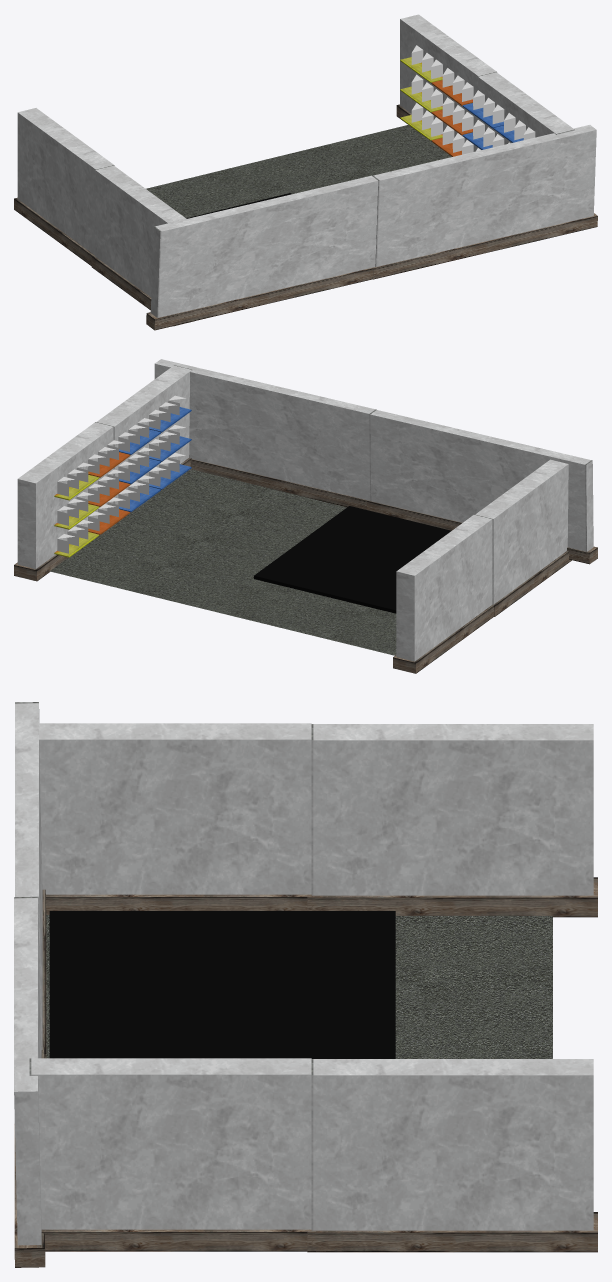
File: music_shop.glb
The picture shows the model from 3 angles, top to bottom: view 1: azimuth 30°, elevation 25°; view 2: azimuth 150°, elevation 25°; view 3: azimuth 270°, elevation 25°; orthographic projection. The views are drawn at different scales.
Visible parts, largest first — view 1: world; view 2: world, Cube; view 3: world, Cube.
Part boxes in pixels (<box>): world: <box>14,14,597,330</box>; world: <box>14,359,597,673</box>; Cube: <box>254,506,451,613</box>; world: <box>14,702,597,1267</box>; Cube: <box>49,911,395,1058</box>.
Bounding box in the file's own units: 44.3 × 10.15 × 28.19.
Materials: 2 (2 with a texture image).
